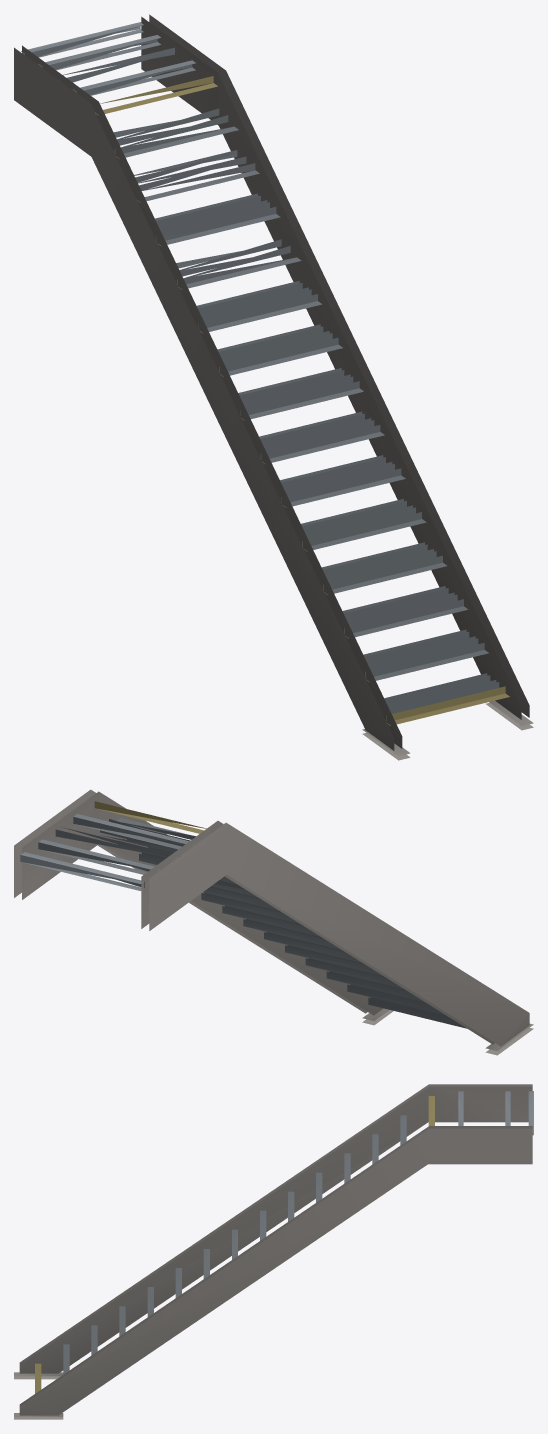
The model's file is stair.lod.glb.
3 views of the same model, one above another, from view 1: azimuth 30°, elevation 25°; view 2: azimuth 150°, elevation 25°; view 3: azimuth 270°, elevation 25° (orthographic). The views are drawn at different scales.
Visible parts, largest first — view 1: stair; view 2: stair; view 3: stair.
Part boxes in pixels (x1,y1,x2,y2): stair: (14, 14, 533, 760); stair: (14, 789, 533, 1055); stair: (14, 1084, 533, 1419).
Bounding box in the file's own units: 1 × 3.05 × 4.93.
